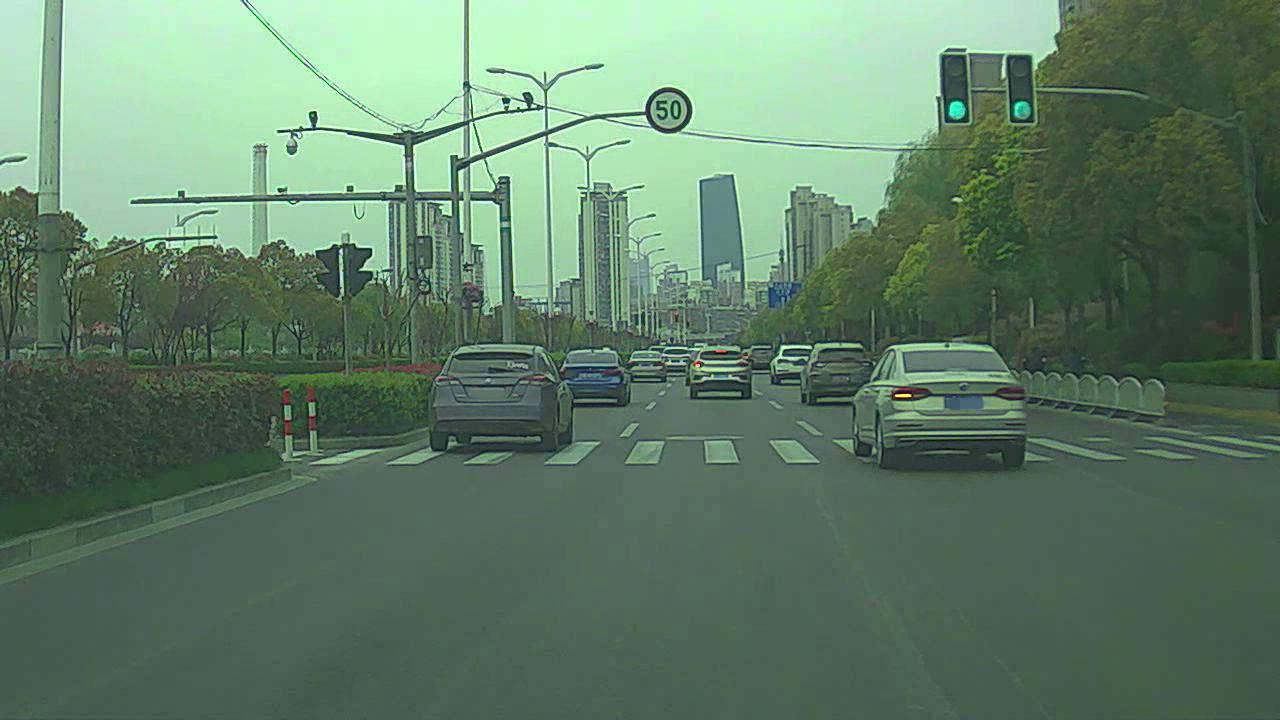traffic_light: (940, 46, 974, 124), (1006, 56, 1040, 128)
